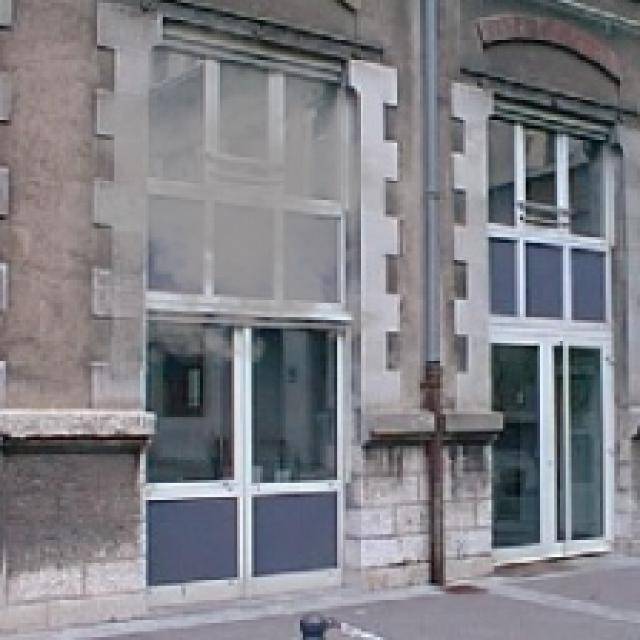smoke: (31, 17, 446, 386)
